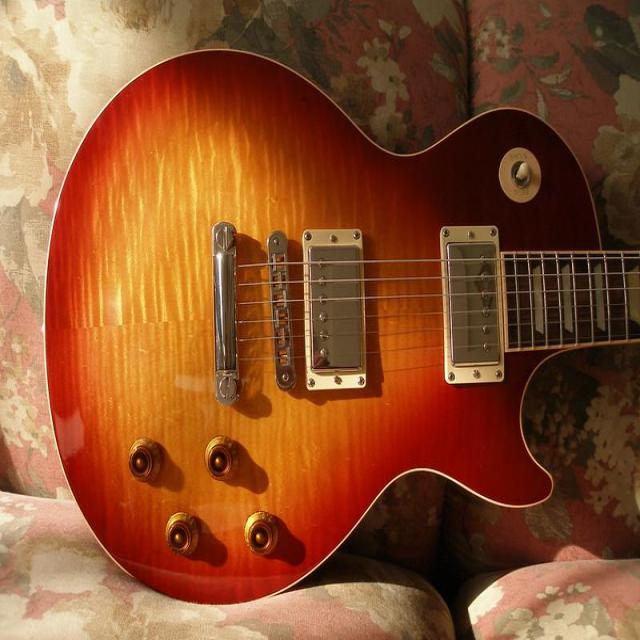guitar: (45, 52, 639, 602)
